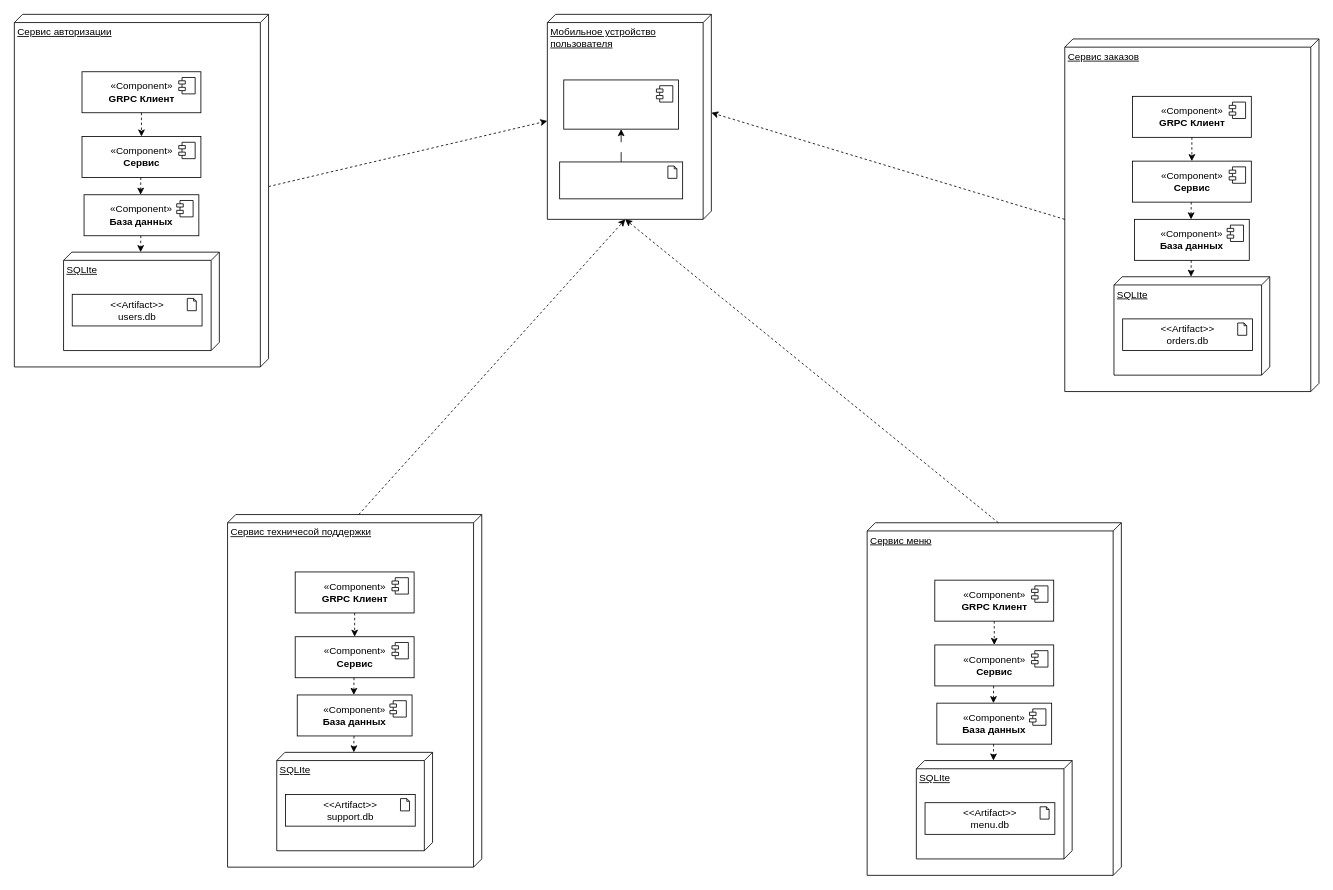
Image size: 1333x890. Some labels were removed from this diagram. Each missing label, with the centre of its shape:
<<Artifact>> Мобильное приложение: (x=621, y=180)
«Component» GUI пользователя: (x=621, y=104)
